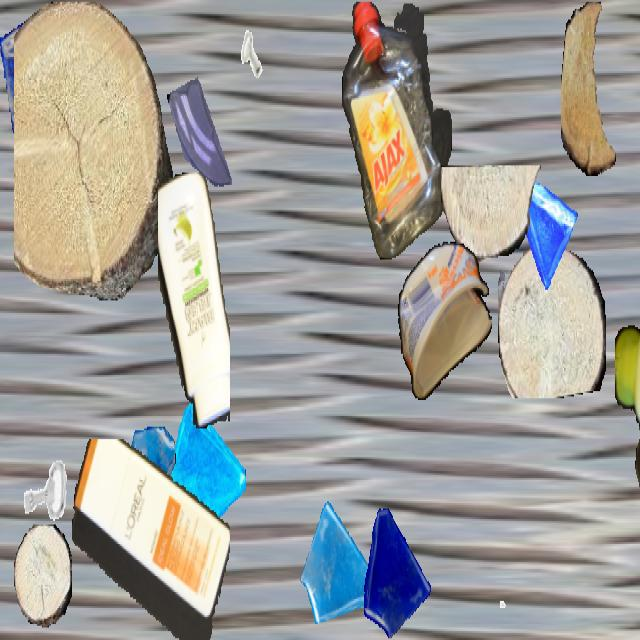glass: (152, 400, 246, 567), (0, 2, 91, 165), (300, 496, 380, 638), (355, 500, 433, 638), (508, 167, 578, 292), (166, 68, 236, 192), (116, 427, 176, 533)
metal: (71, 165, 129, 268), (18, 441, 74, 540), (233, 21, 271, 89), (475, 553, 513, 620)
plastic: (72, 439, 230, 638), (341, 2, 451, 258), (158, 172, 230, 428), (398, 242, 492, 402), (615, 304, 640, 482), (632, 386, 640, 638)
wood: (14, 2, 172, 300), (498, 242, 606, 398), (561, 2, 621, 176), (441, 166, 541, 262), (14, 524, 72, 628)
